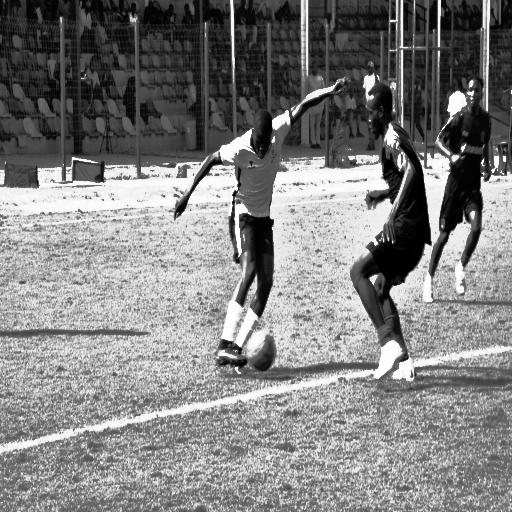ball: (247, 324, 275, 376)
team1: (197, 78, 331, 384)
team2: (338, 58, 434, 401), (421, 56, 503, 308)
